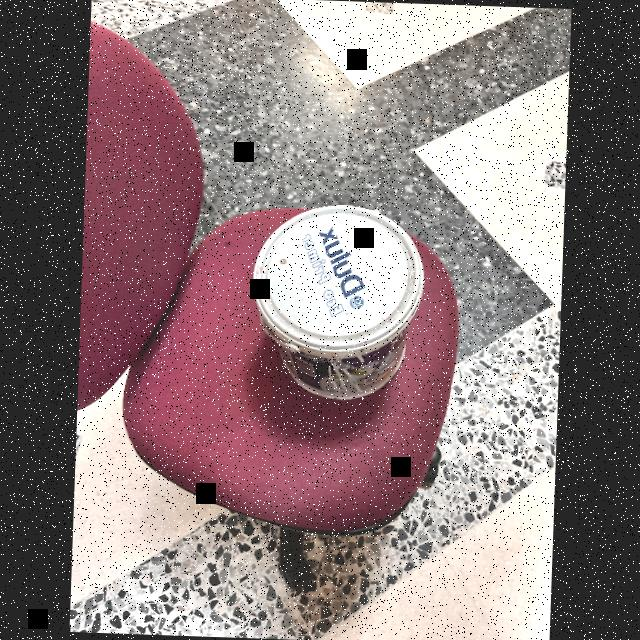paint_bucket: (243, 196, 426, 402)
